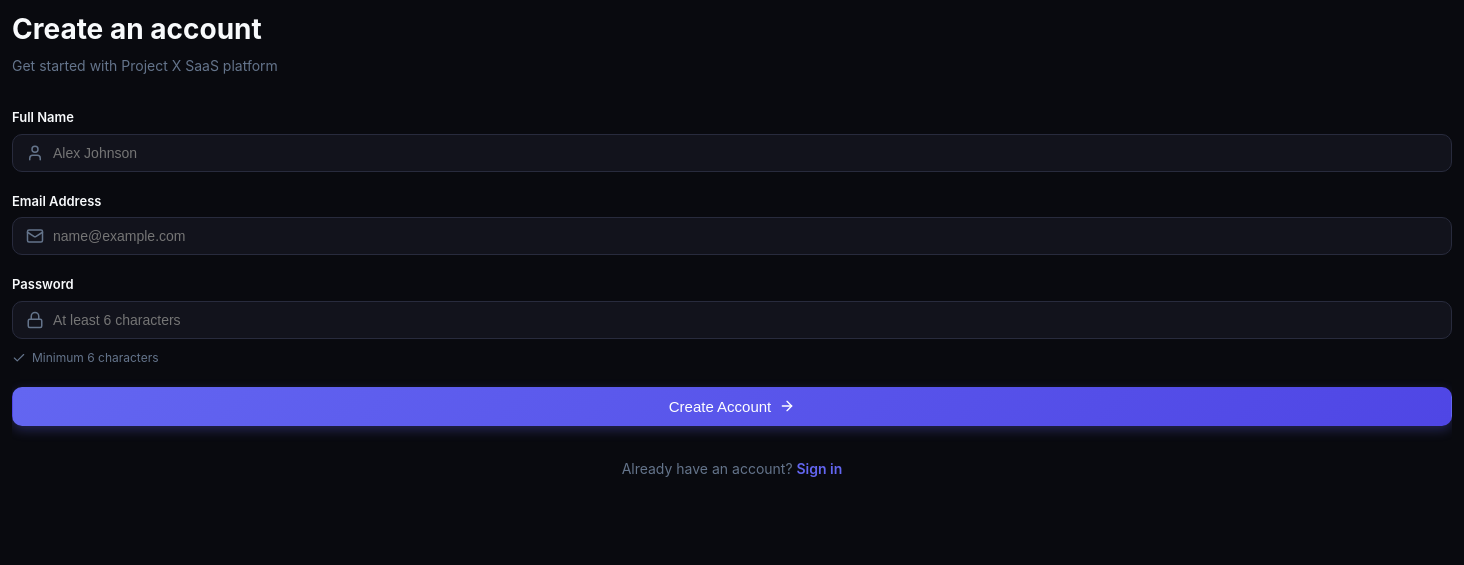
Test: RegisterPage › displays error message when password is less than 6 characters
In the field labelled "Full Name": (732, 152) [12, 134, 1452, 172], type "Alex Doe"
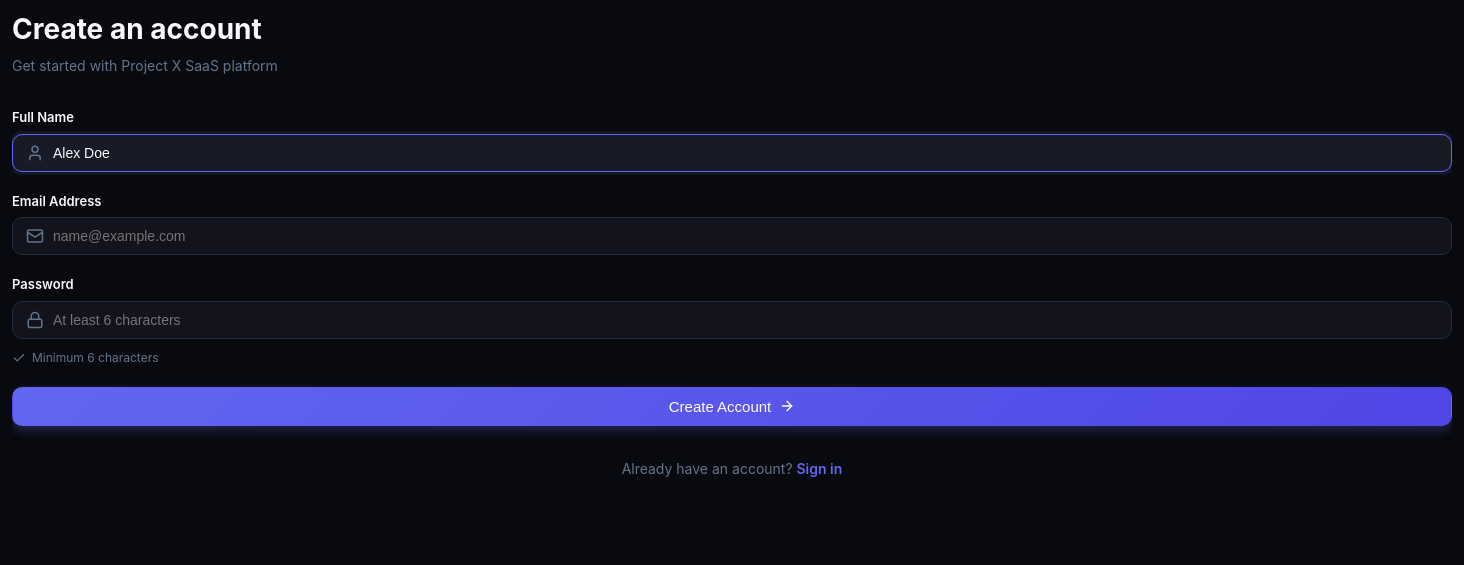
In the field labelled "Email Address": (732, 236) [12, 217, 1452, 255], type "alex@example.com"
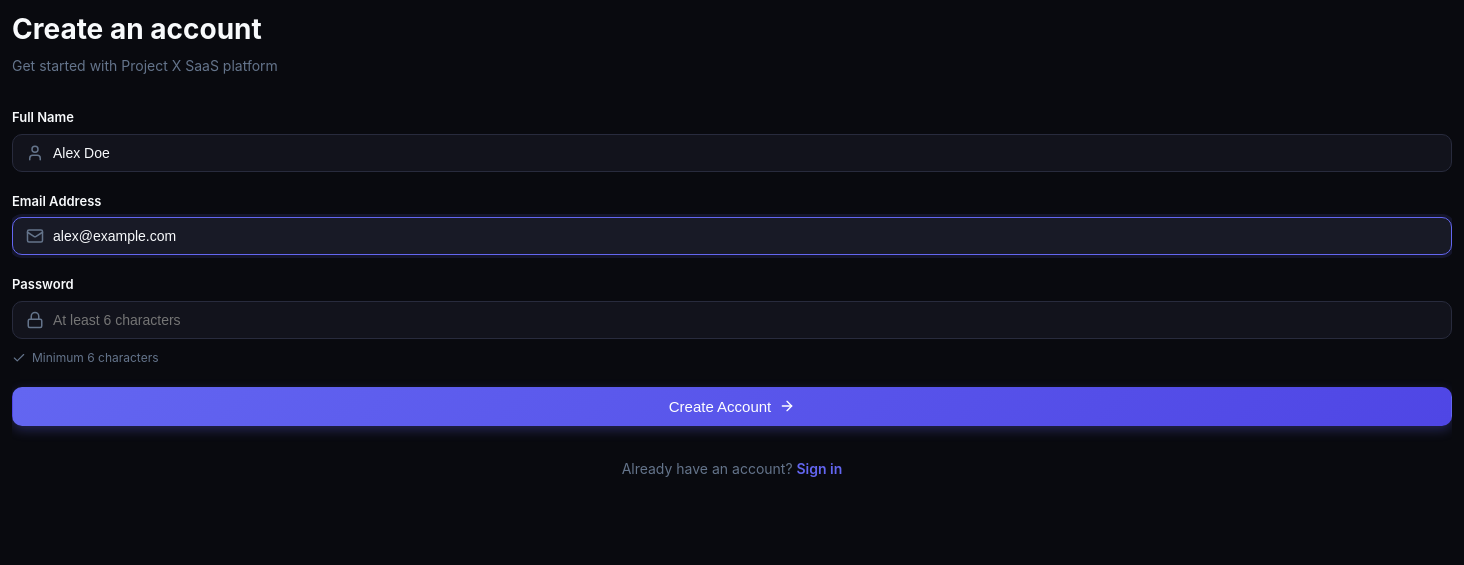
In the password field labelled "Password": (732, 320) [12, 300, 1452, 338], type "12345"
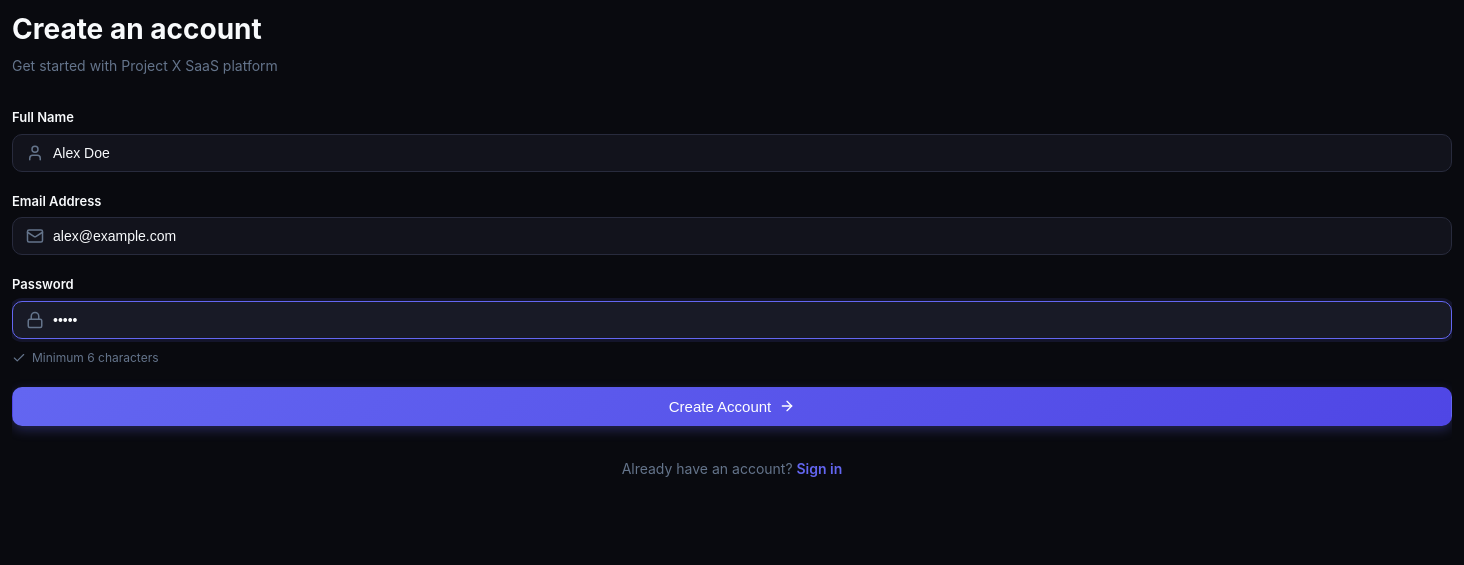
Click the button "Create Account": click(732, 406) [12, 386, 1452, 426]
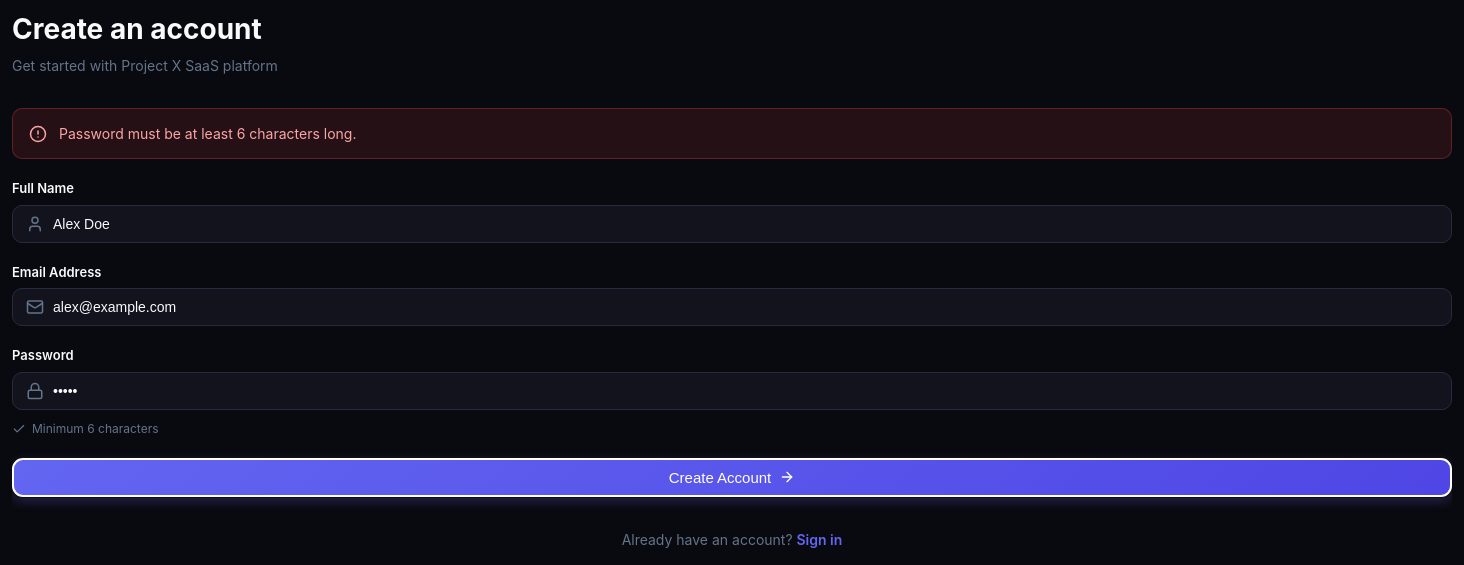
Now the text "Password must be at least 6 characters long." is shown, box [59, 123, 356, 144]
